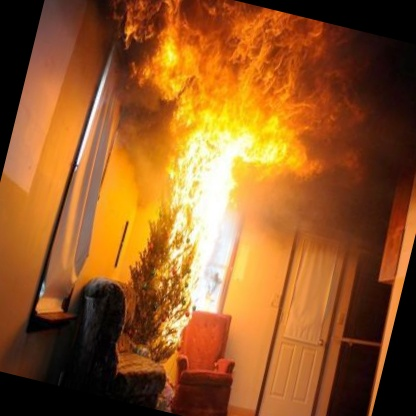fire: (43, 0, 404, 392)
